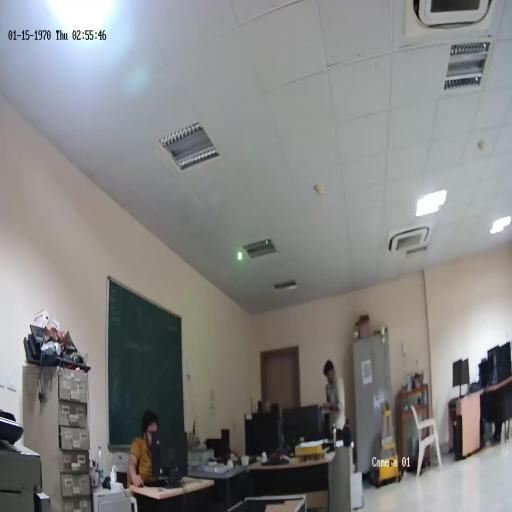laser: (235, 248, 244, 263)
